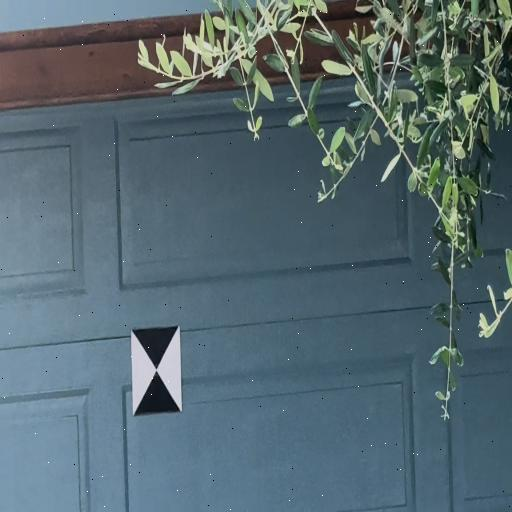target: (132, 329, 182, 413)
